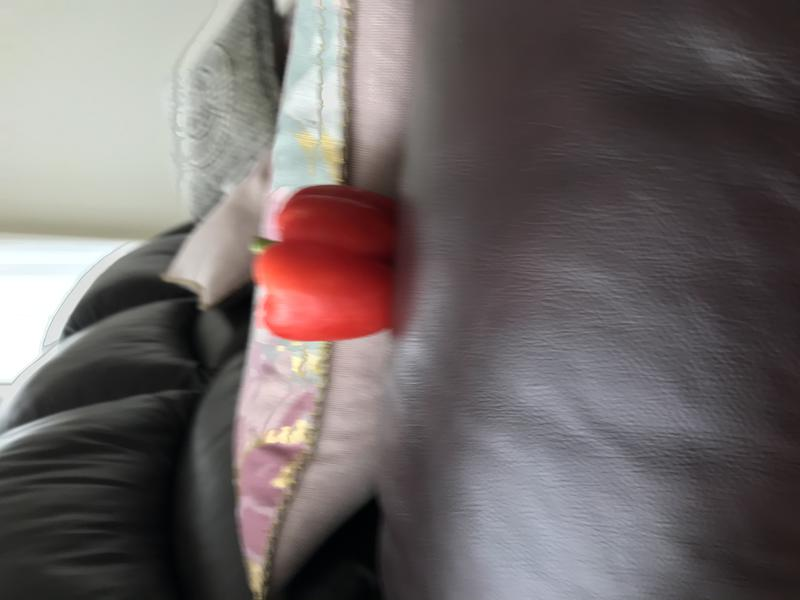red_pepper: (237, 177, 409, 358)
